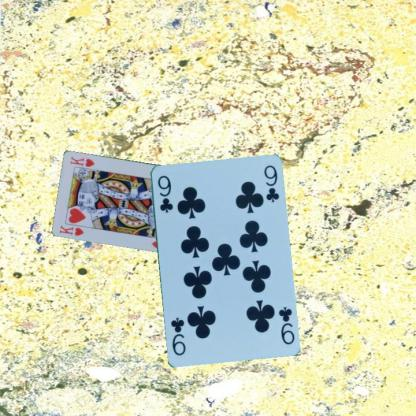9c: (154, 172, 174, 214), (276, 304, 295, 345)
Kh: (57, 222, 86, 237)
